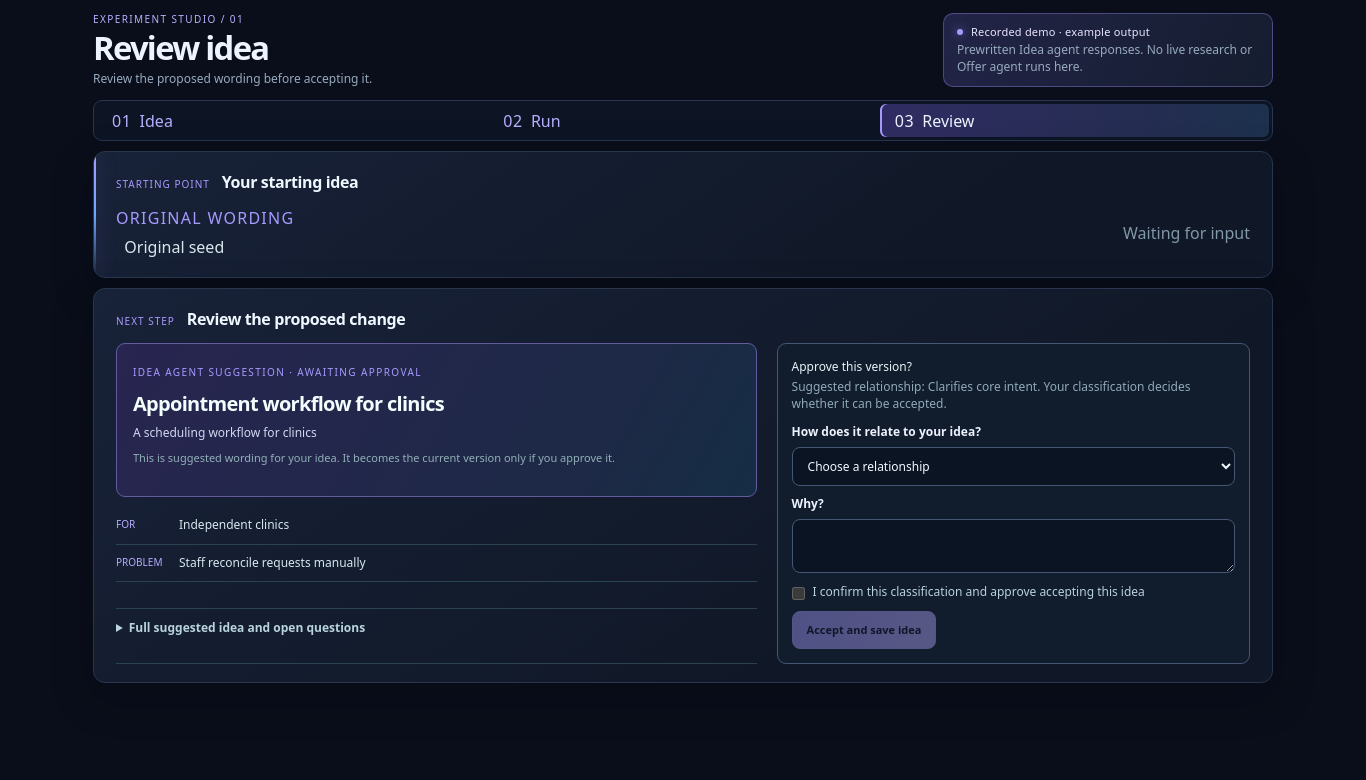
experiment creation checkpoint › blocks UNRELATED acceptance in the normal path
Step 1. Select "Unrelated" in the dropdown named "intent relationship" → [1013, 466], box [792,447,1235,486]
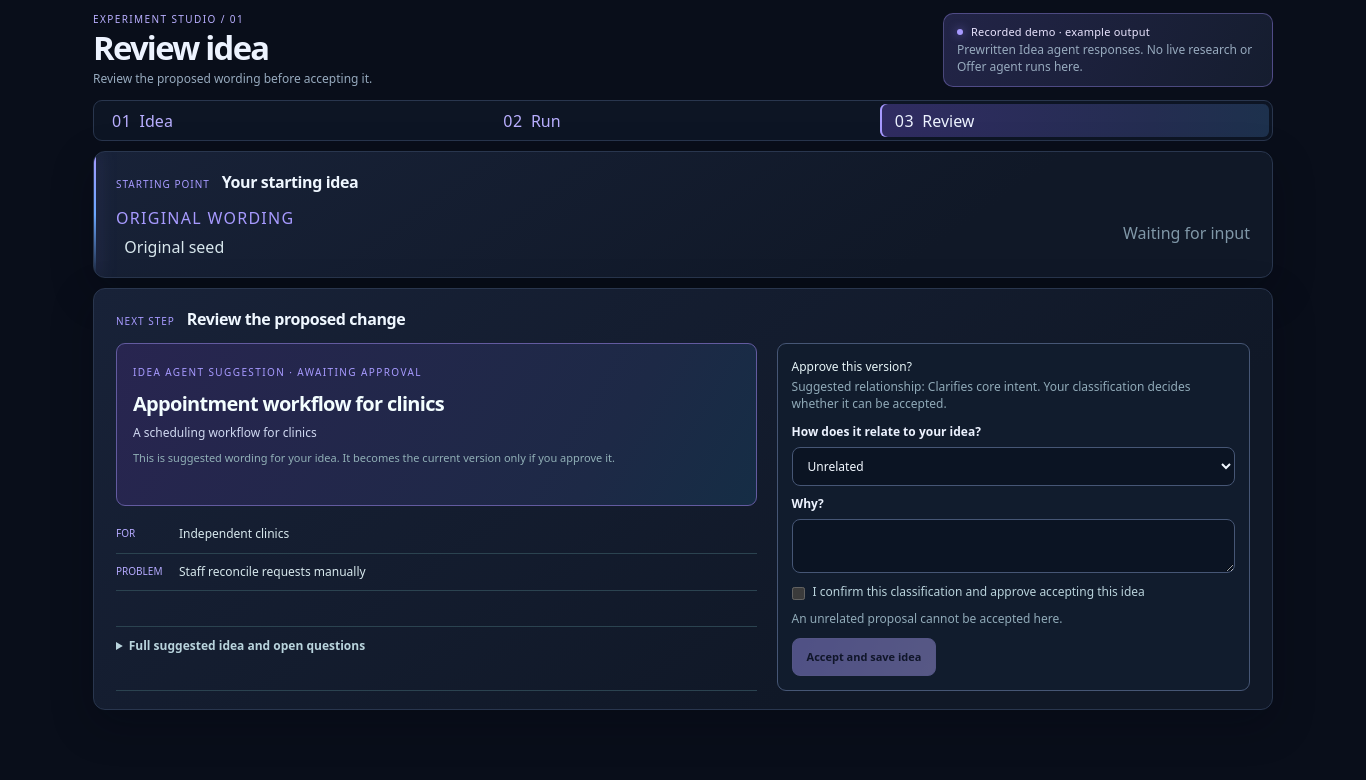
expect the button "Accept and save idea" is disabled: met, box [792,638,936,676]
expect the text "An unrelated proposal cannot be accepted here." is shown: met, box [792,610,1062,627]
